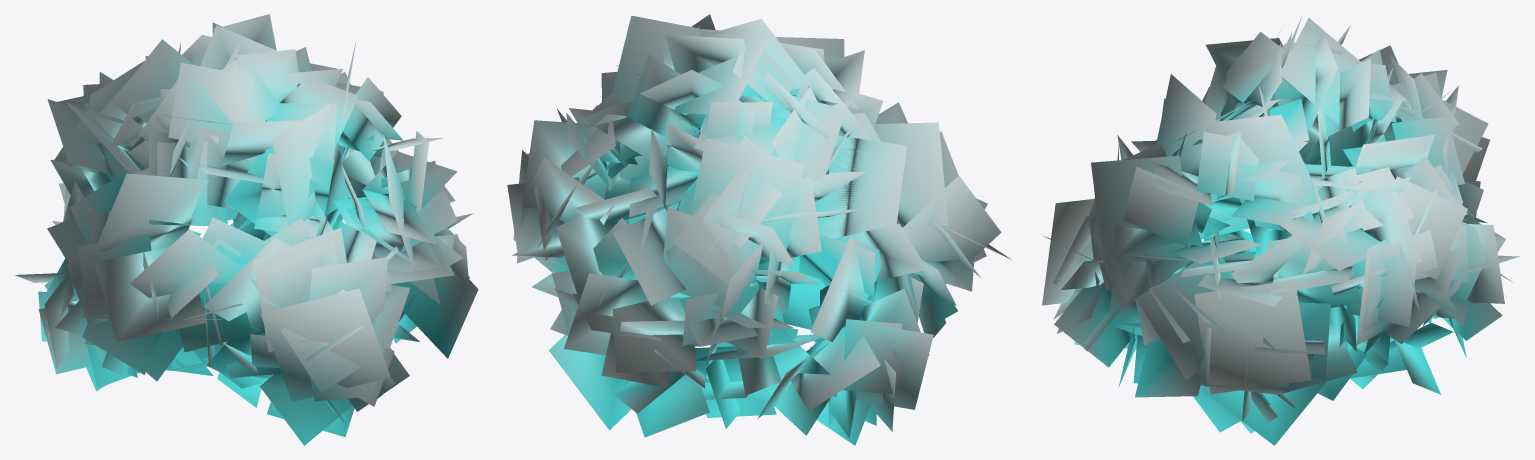
Rendered from Bush_Hero_forShadow.fbx.
3 renders of one model, left to right at view 1: azimuth 30°, elevation 25°; view 2: azimuth 150°, elevation 25°; view 3: azimuth 270°, elevation 25°, orthographic. The views are drawn at different scales.
Parts seen in each view (by area): view 1: LOD0; view 2: LOD0; view 3: LOD0.
Boxes of the visible parts, x1,y1,x2,y2 form: LOD0: (15, 14, 478, 445); LOD0: (507, 14, 1011, 445); LOD0: (1042, 15, 1519, 445).
Size of the model in its own units: 681 by 627 by 749.
